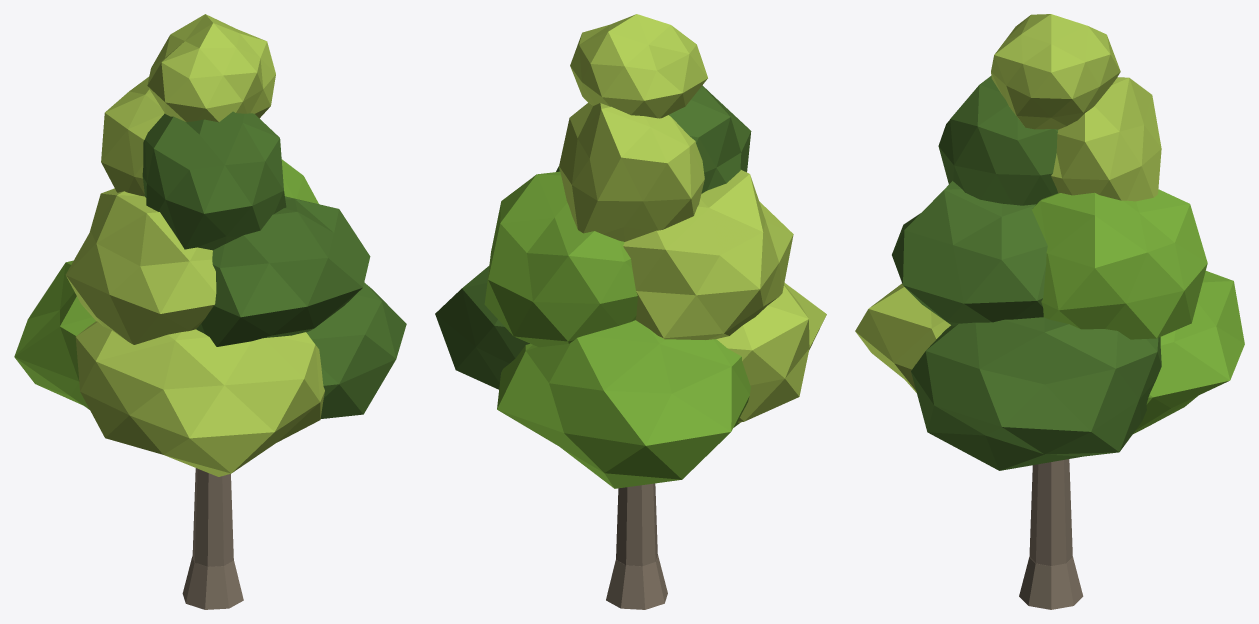
The model's file is tree_beech_1.glb.
3 renders of one model, left to right at view 1: azimuth 30°, elevation 25°; view 2: azimuth 150°, elevation 25°; view 3: azimuth 270°, elevation 25°, orthographic.
Parts seen in each view (by area): view 1: tree_beech_1; view 2: tree_beech_1; view 3: tree_beech_1.
Boxes of the visible parts, <box> form: tree_beech_1: <box>14,14,406,609</box>; tree_beech_1: <box>435,14,826,609</box>; tree_beech_1: <box>855,14,1244,609</box>.
Size of what is drawn, in the model's own units: 6.13 by 10.34 by 6.27.
